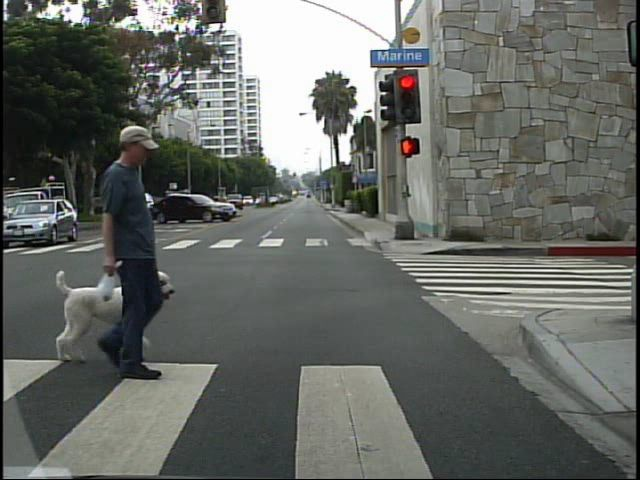person: (80, 115, 179, 382)
